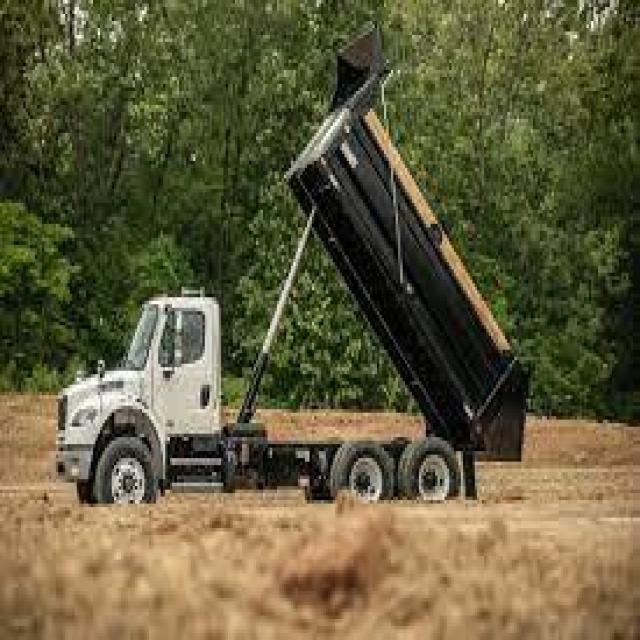dump_truck: (38, 24, 528, 503)
